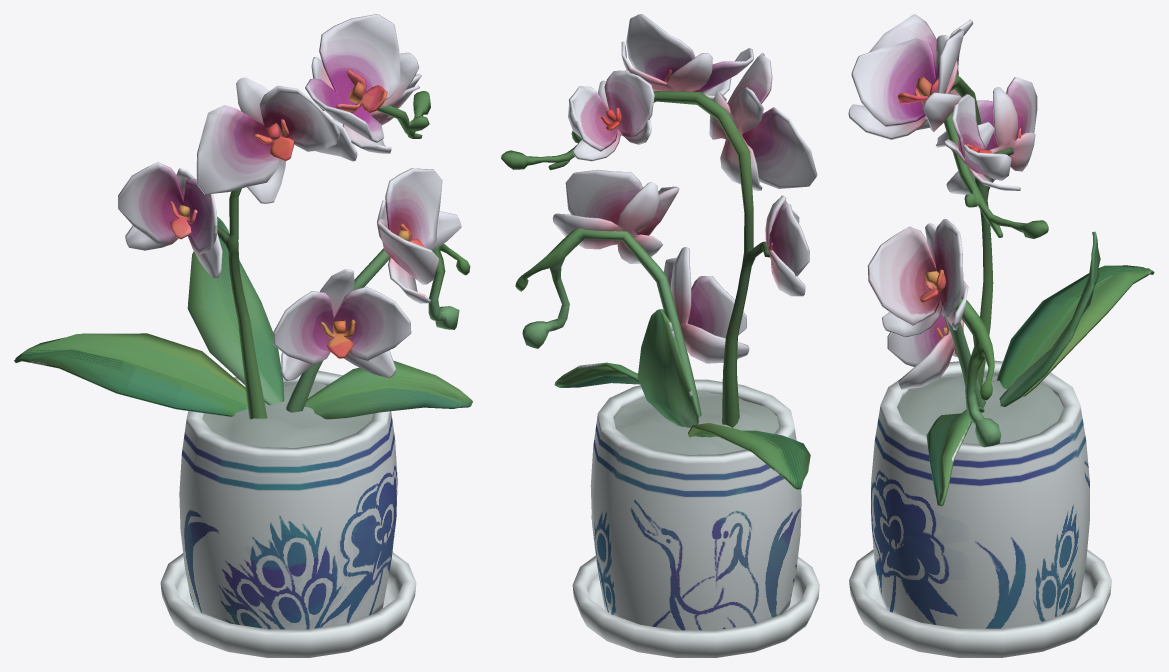
File: orchid.fbx
3 renders of one model, left to right at view 1: azimuth 30°, elevation 25°; view 2: azimuth 150°, elevation 25°; view 3: azimuth 270°, elevation 25°, orthographic. The views are drawn at different scales.
Visible parts, largest first — view 1: Circle.001, Plane.012, Plane.001, Plane.009, Plane.010, Circle, Plane.007, Plane.008, Plane.002, Plane.003, Circle.002, Plane (+1 smaller); view 2: Circle.001, Circle, Plane.012, Plane.008, Plane, Plane.011, Plane.010, Circle.002, Plane.009, Cube, Plane.002, Plane.007 (+2 smaller); view 3: Circle.001, Circle, Plane.010, Plane.008, Plane.001, Circle.002, Plane.007, Plane, Cube, Plane.011, Plane.009, Plane.003 (+2 smaller).
Part boxes in pixels (bbox=[...]): Circle.001: bbox=[179, 370, 397, 629]; Plane.012: bbox=[196, 77, 357, 203]; Plane.001: bbox=[14, 333, 247, 416]; Plane.009: bbox=[273, 269, 411, 381]; Plane.010: bbox=[305, 14, 419, 153]; Circle: bbox=[160, 552, 416, 657]; Plane.007: bbox=[118, 162, 222, 279]; Plane.008: bbox=[377, 168, 461, 303]; Plane.002: bbox=[187, 216, 284, 405]; Plane.003: bbox=[304, 360, 472, 419]; Circle.002: bbox=[202, 382, 372, 447]; Plane: bbox=[217, 91, 430, 419]; Circle.001: bbox=[590, 379, 801, 630]; Circle: bbox=[572, 556, 819, 657]; Plane.012: bbox=[709, 53, 817, 190]; Plane.008: bbox=[552, 169, 679, 263]; Plane: bbox=[501, 91, 770, 427]; Plane.011: bbox=[568, 70, 654, 161]; Plane.010: bbox=[621, 14, 754, 100]; Circle.002: bbox=[614, 390, 779, 454]; Plane.009: bbox=[662, 247, 749, 363]; Cube: bbox=[515, 228, 701, 417]; Plane.002: bbox=[637, 309, 698, 427]; Plane.007: bbox=[765, 195, 809, 296]; Circle.001: bbox=[871, 360, 1089, 628]; Circle: bbox=[849, 549, 1111, 657]; Plane.010: bbox=[848, 28, 963, 139]; Plane.008: bbox=[867, 219, 968, 337]; Plane.001: bbox=[997, 265, 1154, 397]; Circle.002: bbox=[897, 375, 1063, 444]; Plane.007: bbox=[946, 77, 1037, 194]; Plane: bbox=[944, 75, 1048, 386]; Cube: bbox=[946, 298, 1001, 447]; Plane.011: bbox=[943, 94, 1020, 190]; Plane.009: bbox=[887, 314, 963, 389]; Plane.003: bbox=[926, 407, 984, 506].
Size of the model in its own units: 139 by 211 by 96.07.
Materials: 5 (3 with a texture image).
